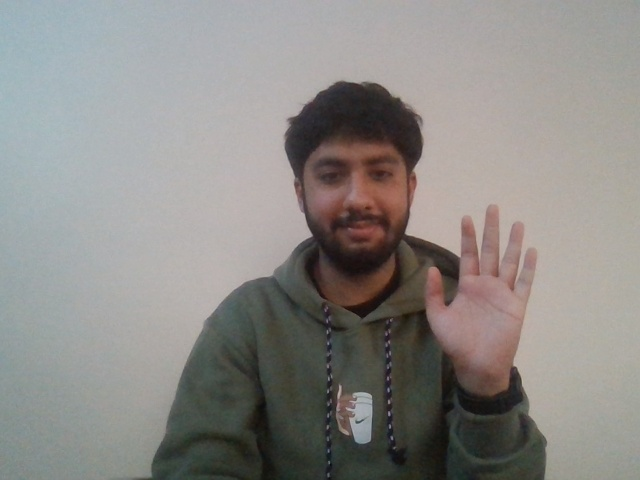Hello: (408, 206, 550, 375)
